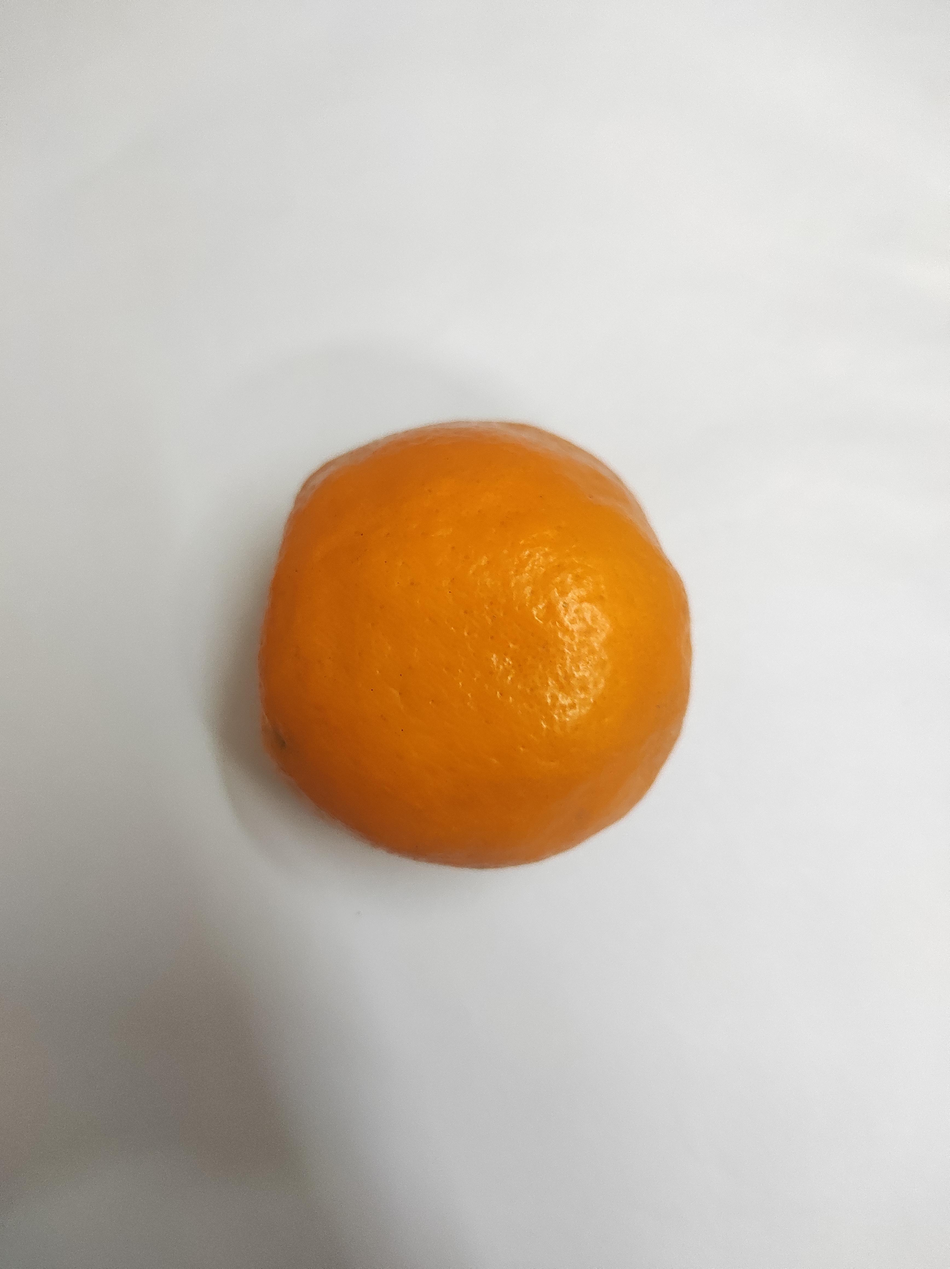Orange Ripe: (197, 567, 520, 1159)
